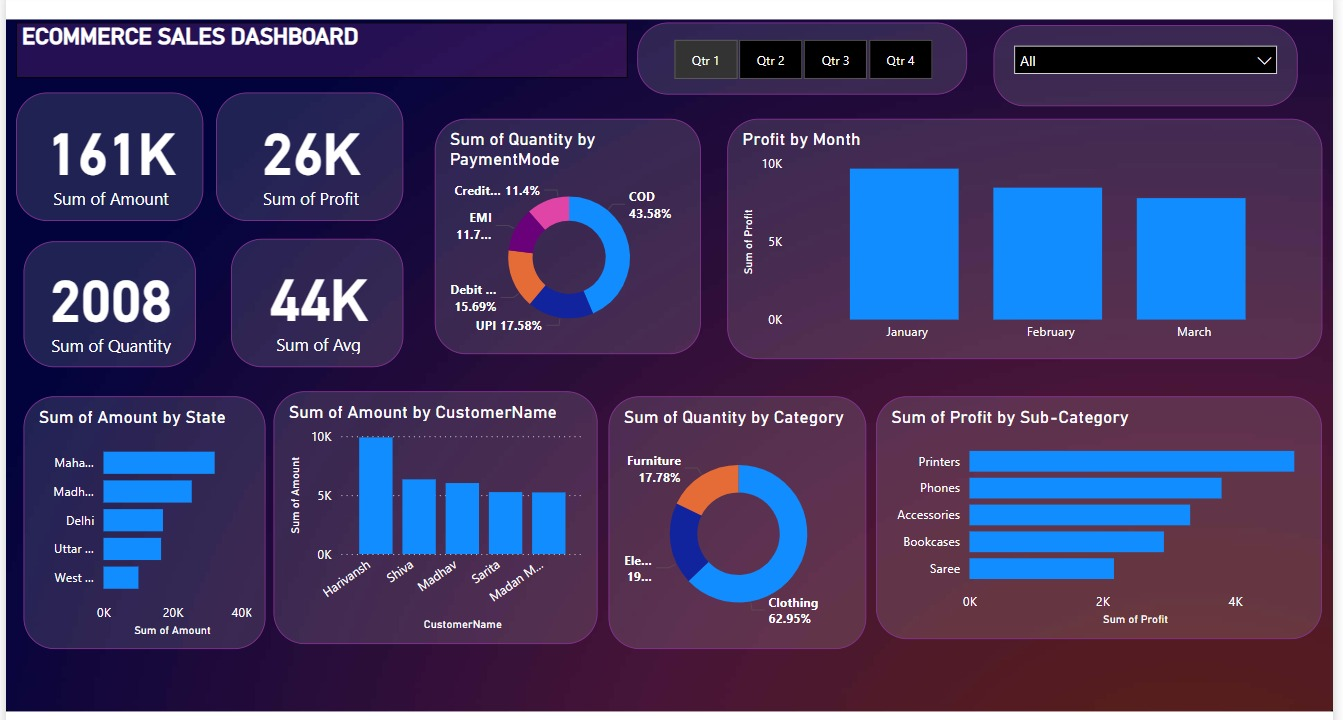

Layout of this report page (visuals, bound fields, positions):
{"tool":"powerbi","page":{"name":"Page 1","canvas":[1280,720],"ordinal":0},"visuals":[{"type":"textbox","title":"ECOMMERCE SALES DASHBOARD","box":[9.6,26.1,590.1,53.5],"z":0},{"type":"columnChart","title":"Profit by Month","fields":{"Category":["Orders.Order Date.Variation.Date Hierarchy.Month"],"Y":["Details.Profit"]},"box":[696.1,119.4,574.3,231.6],"z":1000},{"type":"barChart","fields":{"Y":["Details.Profit"],"Category":["Details.Sub-Category"]},"box":[839.7,387.3,430.7,234],"z":2000},{"type":"donutChart","fields":{"Category":["Details.Category"],"Y":["Details.Quantity"]},"box":[581.5,387.3,248.5,243.7],"z":3000},{"type":"donutChart","fields":{"Y":["Details.Quantity"],"Category":["Details.PaymentMode"]},"box":[413.8,119.4,257,226.8],"z":4000},{"type":"card","fields":{"Values":["Details.Amount"]},"box":[9.7,94.1,181,124.3],"z":5000},{"type":"card","fields":{"Values":["Details.Profit"]},"box":[202.7,94.1,181,124.3],"z":6000},{"type":"card","fields":{"Values":["Details.Quantity"]},"box":[16.9,237.7,166.5,121.9],"z":7000},{"type":"card","fields":{"Values":["Details.Avg"]},"box":[217.2,235.3,166.5,124.3],"z":8000},{"type":"barChart","fields":{"Category":["Orders.State"],"Y":["Details.Amount"]},"box":[16.5,387,233.3,244.3],"z":9000},{"type":"columnChart","fields":{"Category":["Orders.CustomerName"],"Y":["Details.Amount"]},"box":[258.2,382.4,312.5,243.7],"z":10000},{"type":"slicer","fields":{"Values":["Orders.Order Date.Variation.Date Hierarchy.Quarter"]},"box":[609.3,26.1,318.4,70],"z":11000},{"type":"slicer","fields":{"Values":["Orders.State"]},"box":[953.7,28.8,293.7,78.2],"z":12000}]}

Visuals, with their boxes on the page's 1280x720 design canvas (x1, y1, x2, y2). These are canvas units, not pixel positions in the 1343x720 screenshot, which may show the page scaled, cropped or inside an application window:
"ECOMMERCE SALES DASHBOARD" textbox: (10,26,600,80)
"Profit by Month" columnChart: (696,119,1270,351)
barChart - Details.Profit x Details.Sub-Category: (840,387,1270,621)
donutChart - Details.Category x Details.Quantity: (582,387,830,631)
donutChart - Details.Quantity x Details.PaymentMode: (414,119,671,346)
card - Details.Amount: (10,94,191,218)
card - Details.Profit: (203,94,384,218)
card - Details.Quantity: (17,238,183,360)
card - Details.Avg: (217,235,384,360)
barChart - Orders.State x Details.Amount: (16,387,250,631)
columnChart - Orders.CustomerName x Details.Amount: (258,382,571,626)
slicer - Orders.Order Date.Variation.Date Hierarchy.Quarter: (609,26,928,96)
slicer - Orders.State: (954,29,1247,107)
